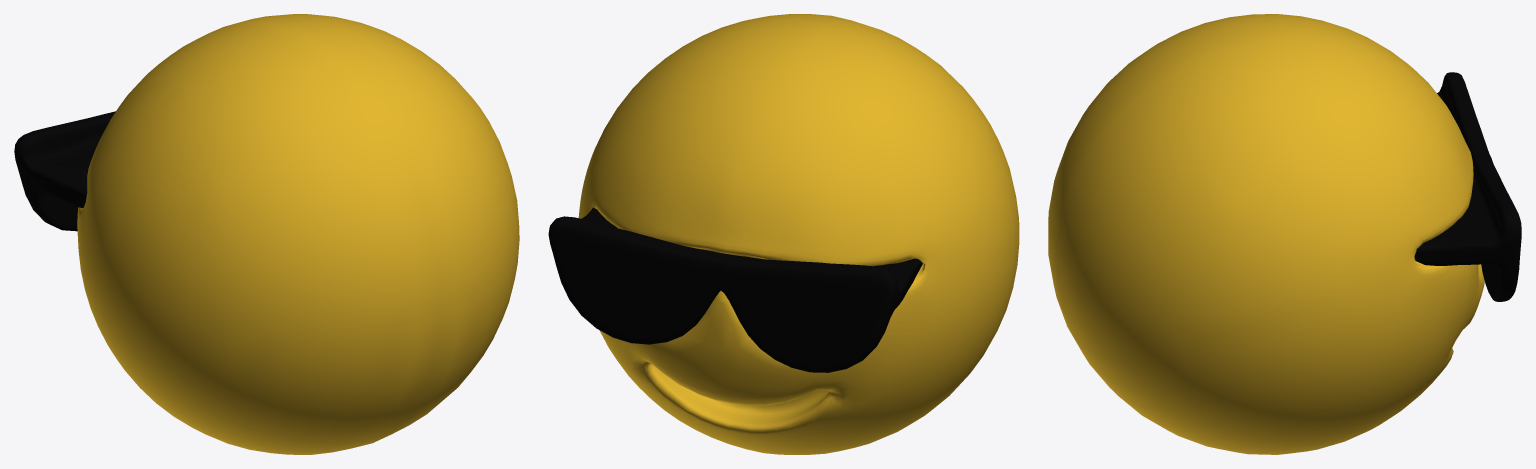
File: sunglasses 3DS.glb
3 renders of one model, left to right at view 1: azimuth 30°, elevation 25°; view 2: azimuth 150°, elevation 25°; view 3: azimuth 270°, elevation 25°, orthographic.
Visible parts, largest first — view 1: Group43228, Group17483; view 2: Group43228, Group17483; view 3: Group43228, Group17483.
Part boxes in pixels (box(x1,y1,x2,y2)): Group43228: box(77, 14, 519, 454); Group17483: box(14, 111, 115, 231); Group43228: box(578, 14, 1019, 454); Group17483: box(548, 207, 922, 372); Group43228: box(1048, 14, 1484, 454); Group17483: box(1414, 72, 1521, 301).
Bounding box in the file's own units: 0.5659 × 0.5661 × 0.6069.
